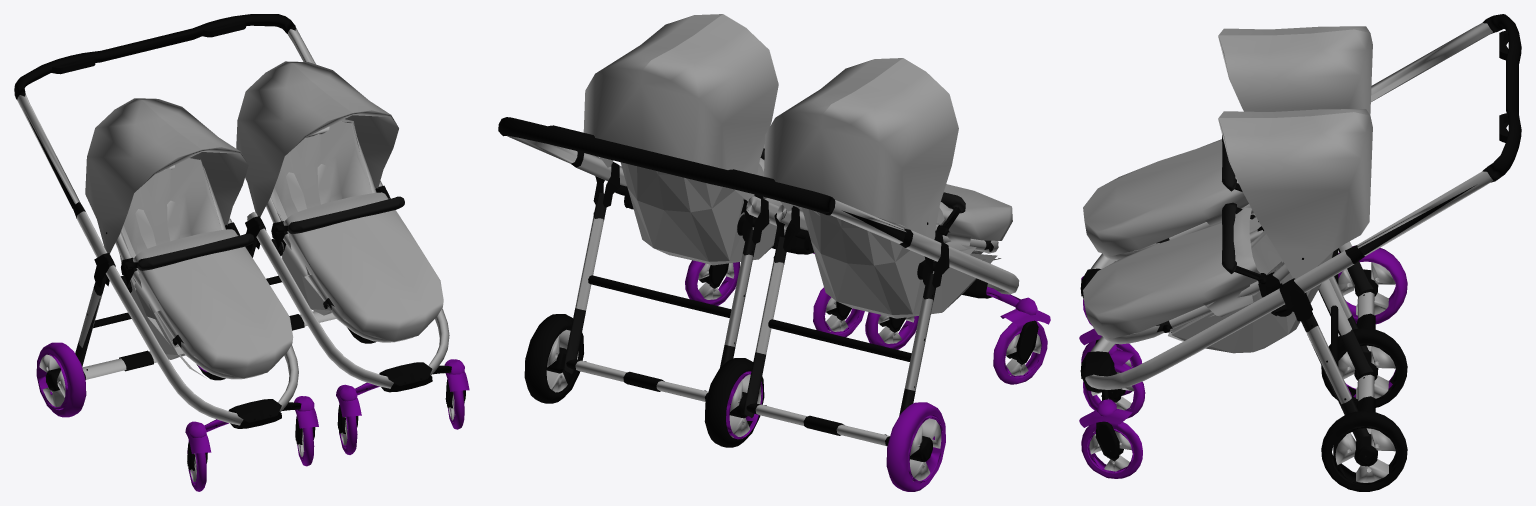
Rendered from baby cart.FBX.
3 views of the same model, side by side, from view 1: azimuth 30°, elevation 25°; view 2: azimuth 150°, elevation 25°; view 3: azimuth 270°, elevation 25° (orthographic). The views are drawn at different scales.
Parts seen in each view (by area): view 1: Object005, Object04, polySurface1068, polySurface1069, polySurface1067; view 2: Object005, Object04, polySurface1068, polySurface1069, polySurface1067; view 3: Object005, polySurface1068, Object04, polySurface1067.
Part boxes in pixels (box(x1,y1,x2,y2)): Object005: box(14, 14, 469, 491); Object04: box(85, 98, 293, 378); polySurface1068: box(236, 61, 443, 341); polySurface1069: box(118, 231, 206, 378); polySurface1067: box(270, 119, 370, 326); Object005: box(498, 117, 1050, 491); Object04: box(764, 58, 1012, 254); polySurface1068: box(583, 14, 782, 206); polySurface1069: box(802, 207, 1001, 318); polySurface1067: box(620, 162, 802, 265); Object005: box(1079, 14, 1521, 491); polySurface1068: box(1083, 109, 1372, 338); Object04: box(1083, 26, 1372, 255); polySurface1067: box(1168, 231, 1333, 353).
Bounding box in the file's own units: 191 × 168 × 200.
